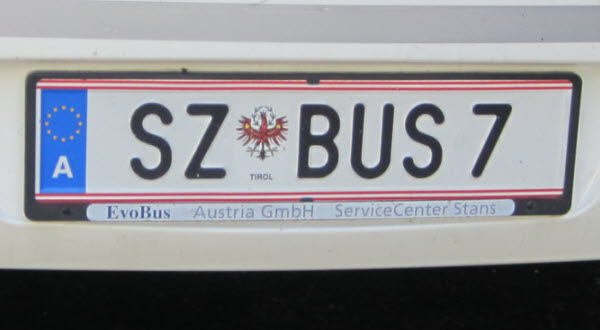license_plate: (34, 78, 574, 201)
